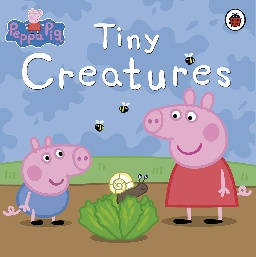Peppa: (142, 88, 241, 225)
